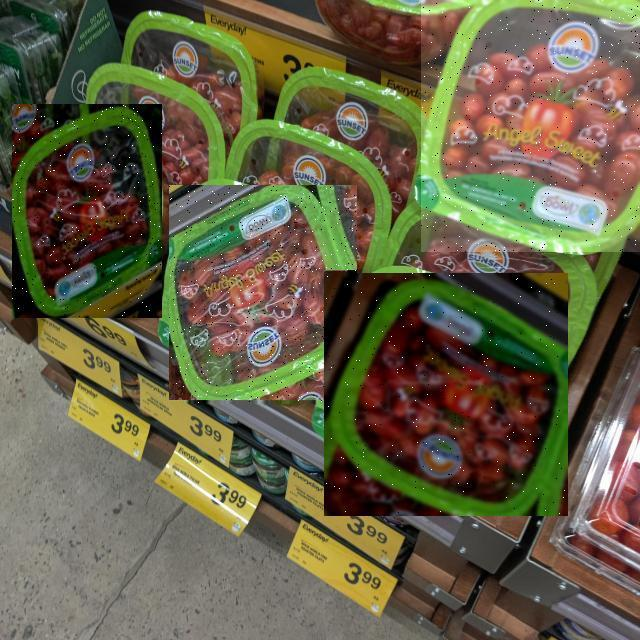Tomatoes: (325, 273, 569, 516), (421, 0, 640, 252), (169, 186, 357, 404), (12, 104, 162, 318)
